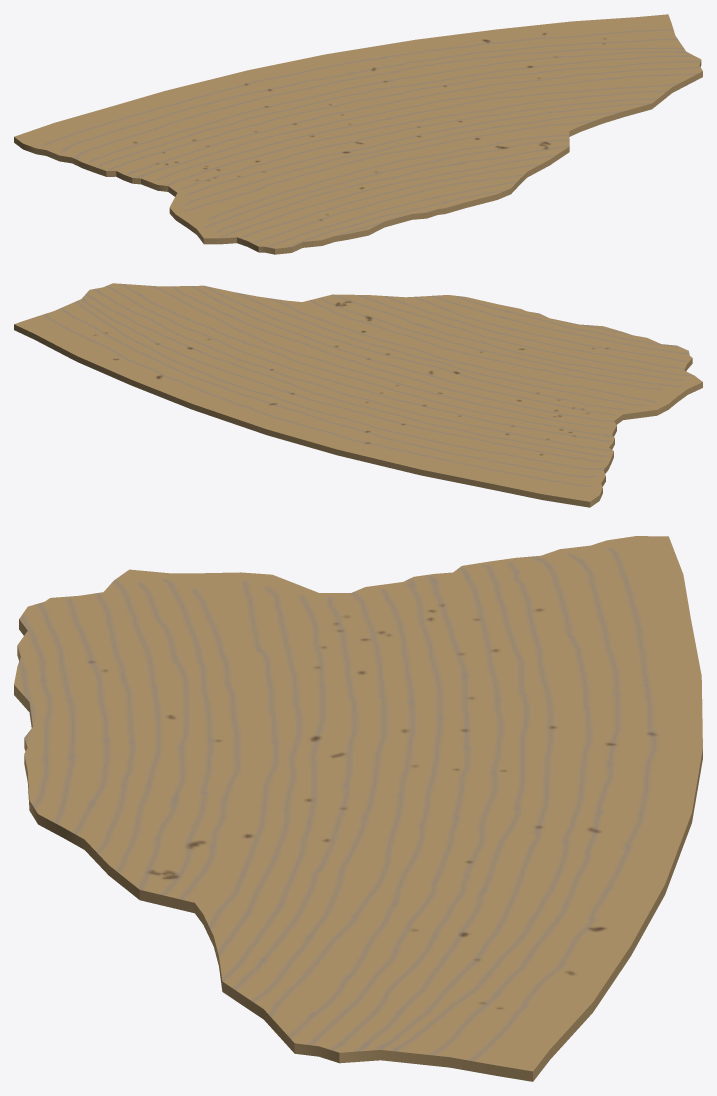
File: cymbal_shard (1).fbx
3 renders of one model, top to bottom at view 1: azimuth 30°, elevation 25°; view 2: azimuth 150°, elevation 25°; view 3: azimuth 270°, elevation 25°, orthographic. The views are drawn at different scales.
Parts seen in each view (by area): view 1: polySurface1; view 2: polySurface1; view 3: polySurface1.
Boxes of the visible parts, x1,y1,x2,y2 form: polySurface1: (14, 14, 702, 254); polySurface1: (14, 283, 702, 507); polySurface1: (14, 536, 702, 1081).
Bounding box in the file's own units: 24.41 × 0.2222 × 13.27.
